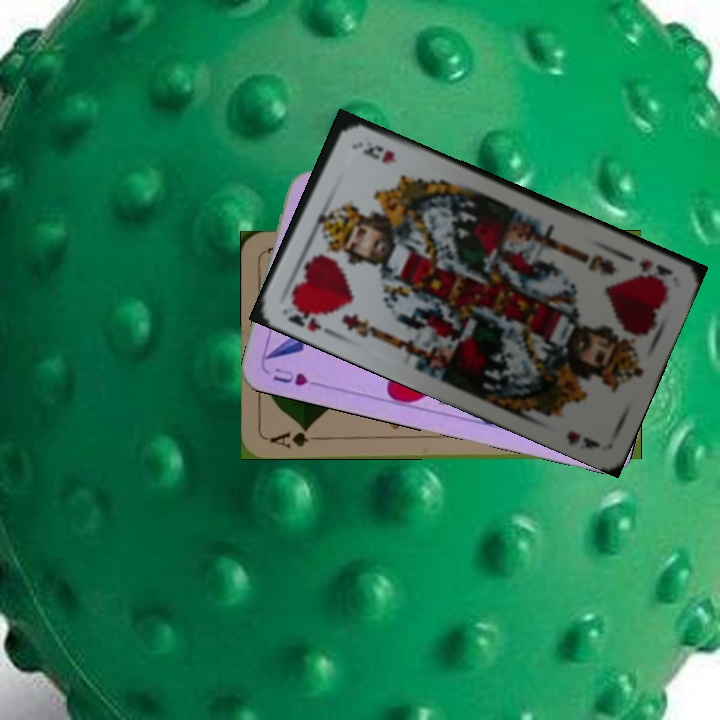GA: (266, 424, 325, 451)
HK: (621, 249, 675, 285), (284, 298, 335, 335)
HU: (268, 364, 323, 388)
